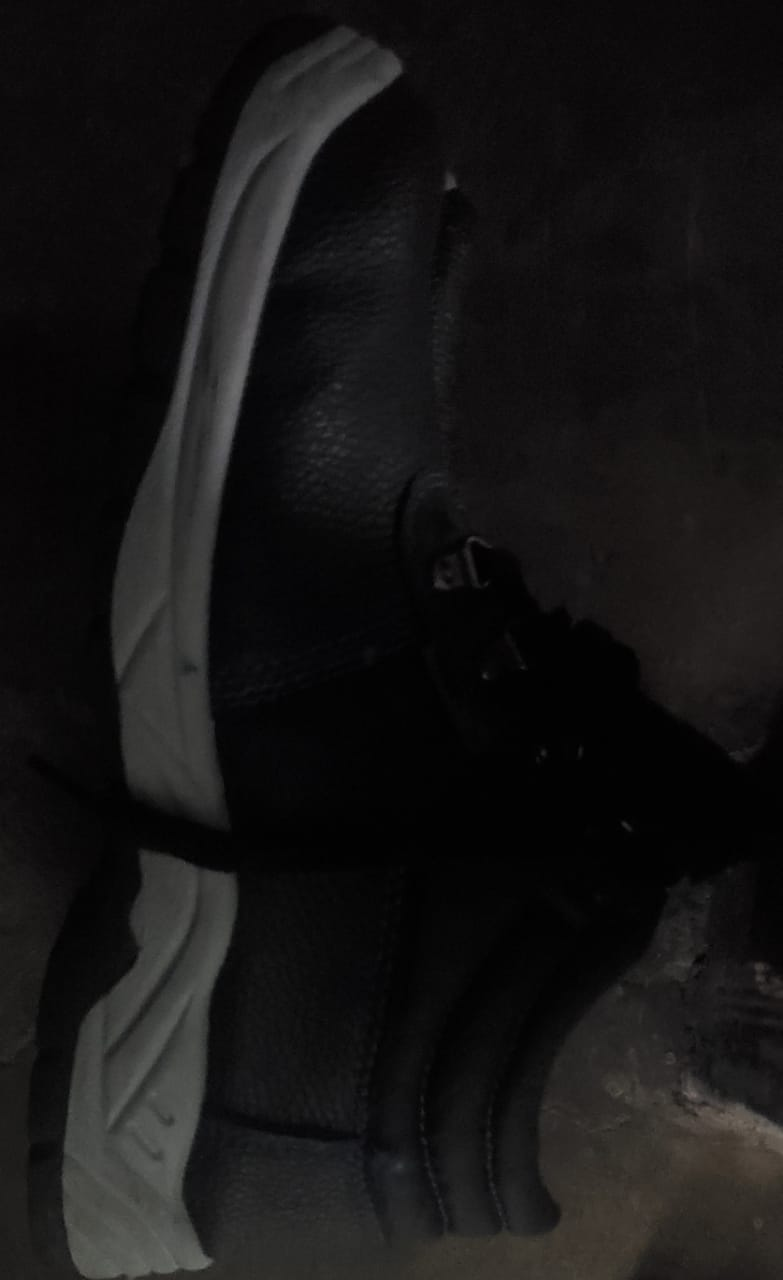safetyboot: (20, 7, 747, 1280)
